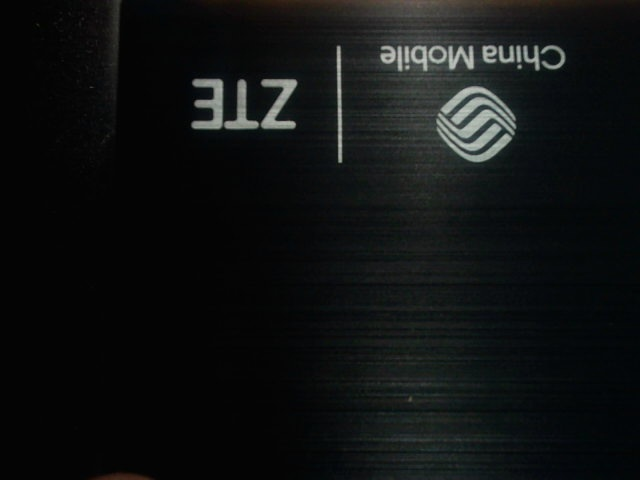AL_ZTEChinaMobile: (177, 33, 572, 177)
